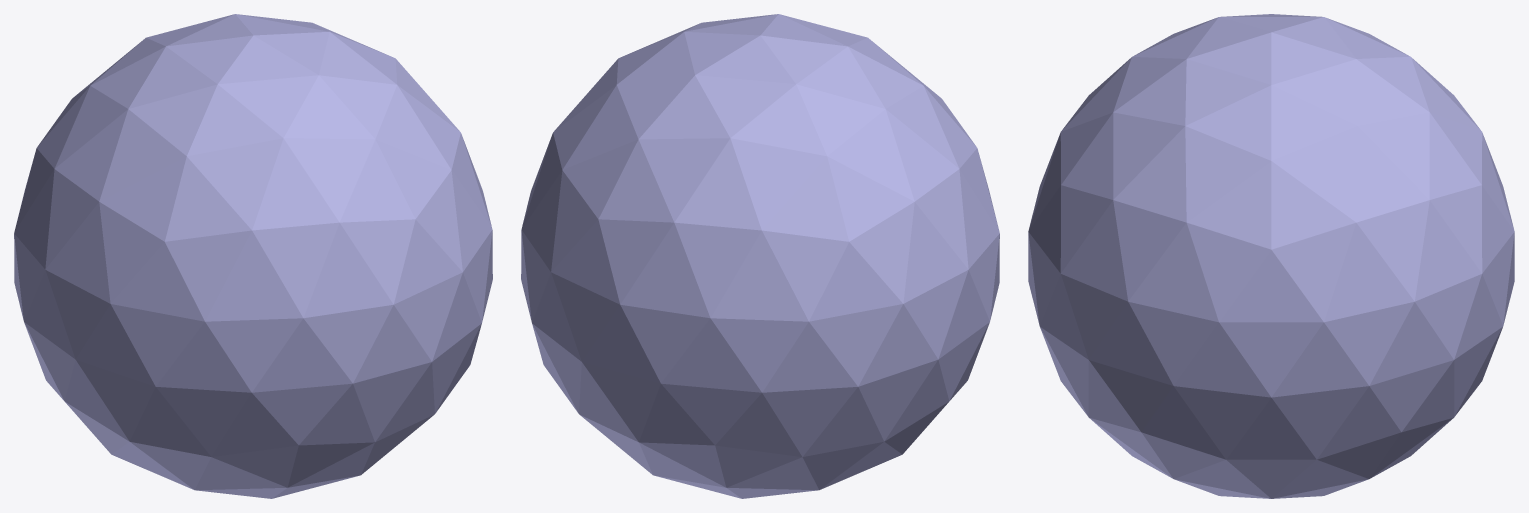
File: planet.gltf
The picture shows the model from 3 angles, left to right: view 1: azimuth 30°, elevation 25°; view 2: azimuth 150°, elevation 25°; view 3: azimuth 270°, elevation 25°; orthographic projection.
Visible parts, largest first — view 1: GeoSphere001; view 2: GeoSphere001; view 3: GeoSphere001.
Part boxes in pixels (x1,y1,x2,y2): GeoSphere001: [14, 14, 492, 498]; GeoSphere001: [521, 14, 999, 498]; GeoSphere001: [1028, 14, 1514, 498].
Bounding box in the file's own units: 19.71 × 20 × 19.66.
